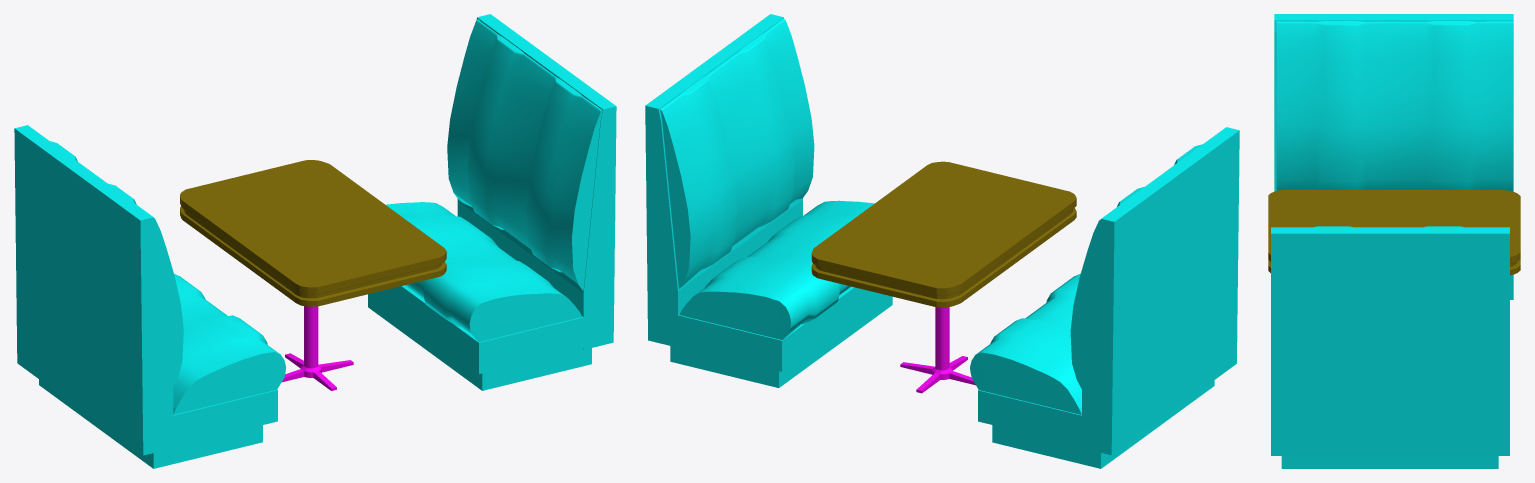
3 renders of one model, left to right at view 1: azimuth 30°, elevation 25°; view 2: azimuth 150°, elevation 25°; view 3: azimuth 270°, elevation 25°, orthographic. The views are drawn at different scales.
Visible parts, largest first — view 1: pCube15, pCube21, pCube1, pCube17, pCube19, pCube12, pCube20, pCube18, pCube13, pCube14, pCube16, pCylinder1; view 2: pCube15, pCube21, pCube1, pCube17, pCube19, pCube12, pCube20, pCube18, pCube13, pCube14, pCube16, pCylinder1; view 3: pCube19, pCube16, pCube1, pCube18, pCube15.
Part boxes in pixels (x1,y1,x2,y2): pCube15: [14, 125, 173, 455]; pCube21: [447, 19, 602, 290]; pCube1: [180, 160, 446, 306]; pCube17: [385, 202, 581, 342]; pCube19: [457, 14, 616, 349]; pCube12: [173, 274, 285, 414]; pCube20: [370, 285, 583, 373]; pCube18: [368, 294, 591, 390]; pCube13: [173, 389, 277, 446]; pCube14: [39, 379, 262, 468]; pCube16: [50, 141, 183, 386]; pCylinder1: [282, 306, 353, 390]; pCube15: [1082, 127, 1239, 455]; pCube21: [660, 18, 814, 288]; pCube1: [811, 161, 1076, 307]; pCube17: [679, 200, 874, 339]; pCube19: [645, 14, 802, 347]; pCube12: [970, 273, 1081, 414]; pCube20: [677, 286, 886, 371]; pCube18: [670, 295, 892, 387]; pCube13: [978, 390, 1081, 446]; pCube14: [992, 380, 1214, 468]; pCube16: [1070, 144, 1202, 388]; pCylinder1: [900, 307, 975, 393]; pCube19: [1271, 227, 1509, 455]; pCube16: [1276, 21, 1513, 191]; pCube1: [1268, 189, 1520, 275]; pCube18: [1281, 456, 1498, 468]; pCube15: [1274, 14, 1513, 191].
Size of the model in its own units: 2 by 1.04 by 0.9726.
